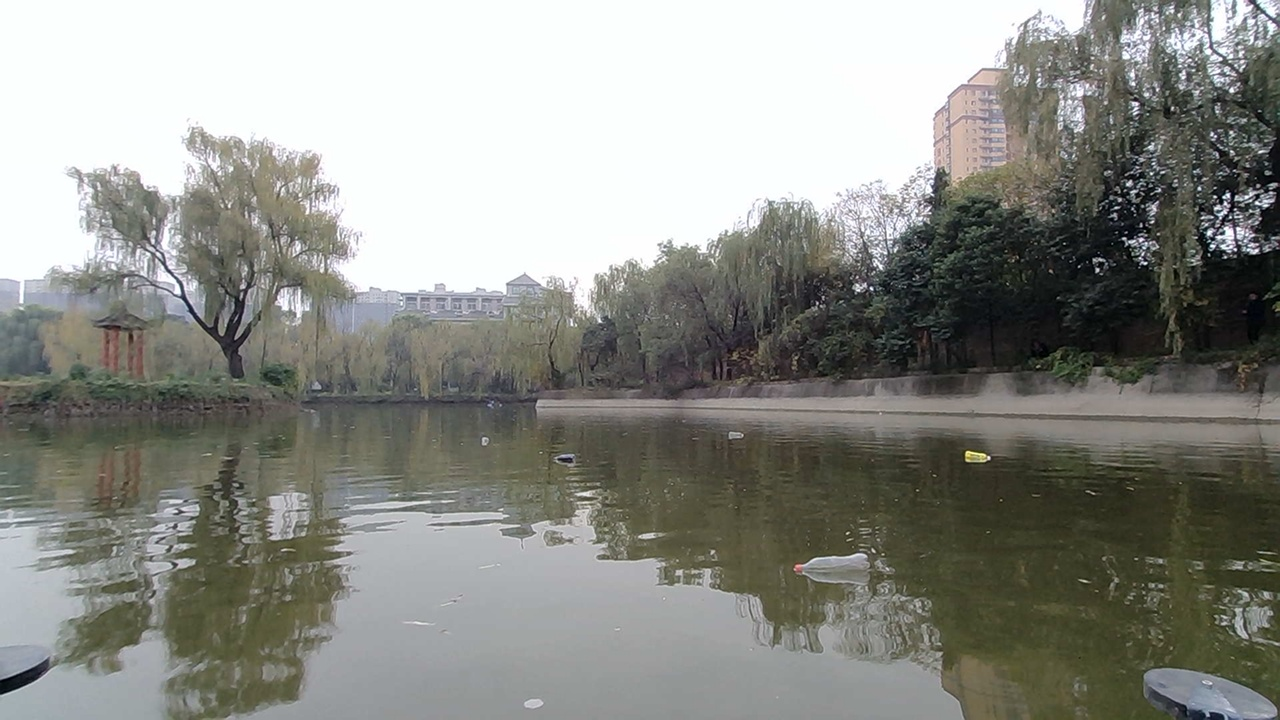bottle: (801, 524, 886, 600), (461, 424, 532, 455), (555, 431, 601, 473), (959, 437, 992, 471), (723, 421, 758, 443)
